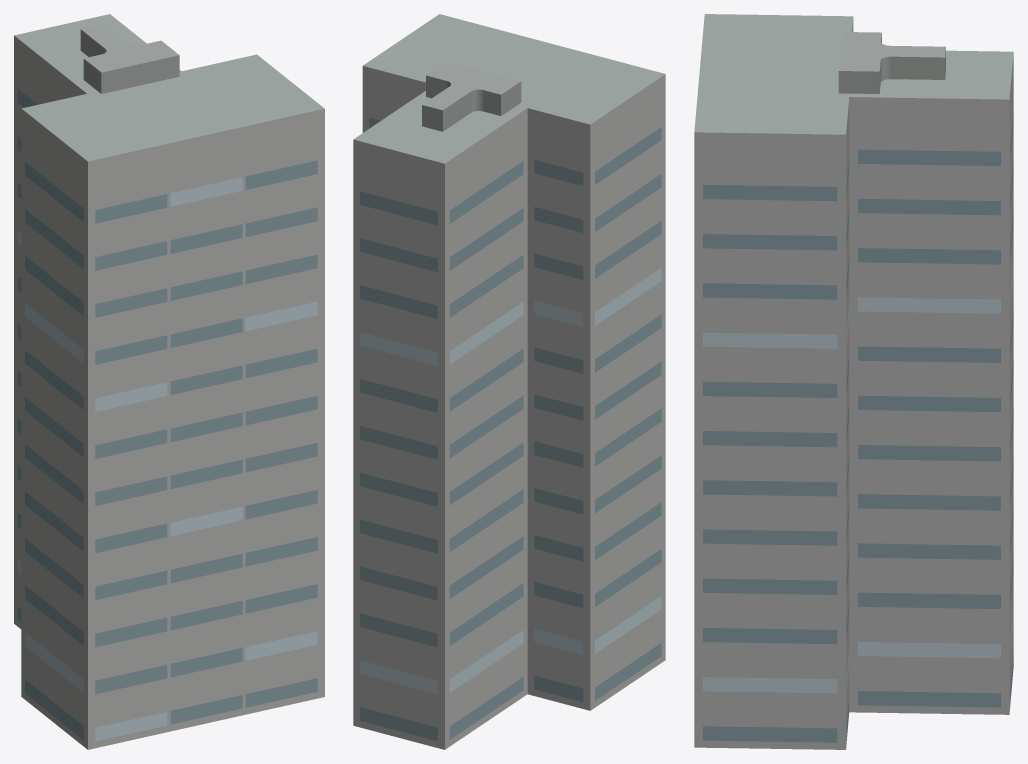
File: fallback-sk-bukhansan-city-108.glb
3 renders of one model, left to right at view 1: azimuth 30°, elevation 25°; view 2: azimuth 150°, elevation 25°; view 3: azimuth 270°, elevation 25°, orthographic. The views are drawn at different scales.
Parts seen in each view (by area): view 1: fallback-sk-bukhansan-city-108; view 2: fallback-sk-bukhansan-city-108; view 3: fallback-sk-bukhansan-city-108.
Part boxes in pixels (x1,y1,x2,y2): fallback-sk-bukhansan-city-108: (14, 14, 324, 749); fallback-sk-bukhansan-city-108: (353, 14, 665, 749); fallback-sk-bukhansan-city-108: (694, 14, 1013, 749).
Size of the model in its own units: 27.63 by 68 by 30.89.
